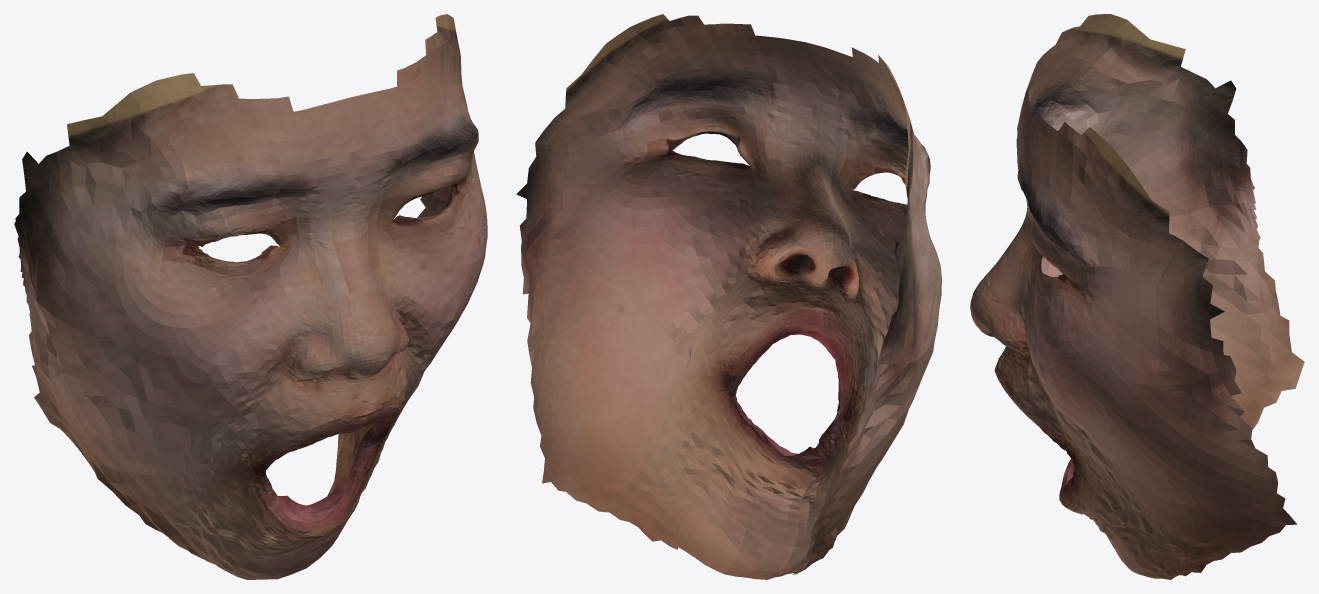
The model's file is 3_mouth_stretch.obj.
The picture shows the model from 3 angles, left to right: view 1: azimuth 30°, elevation 25°; view 2: azimuth 150°, elevation 25°; view 3: azimuth 270°, elevation 25°; orthographic projection. The views are drawn at different scales.
Bounding box in the file's own units: 162 × 204 × 123.
Materials: 1 (1 with a texture image).
